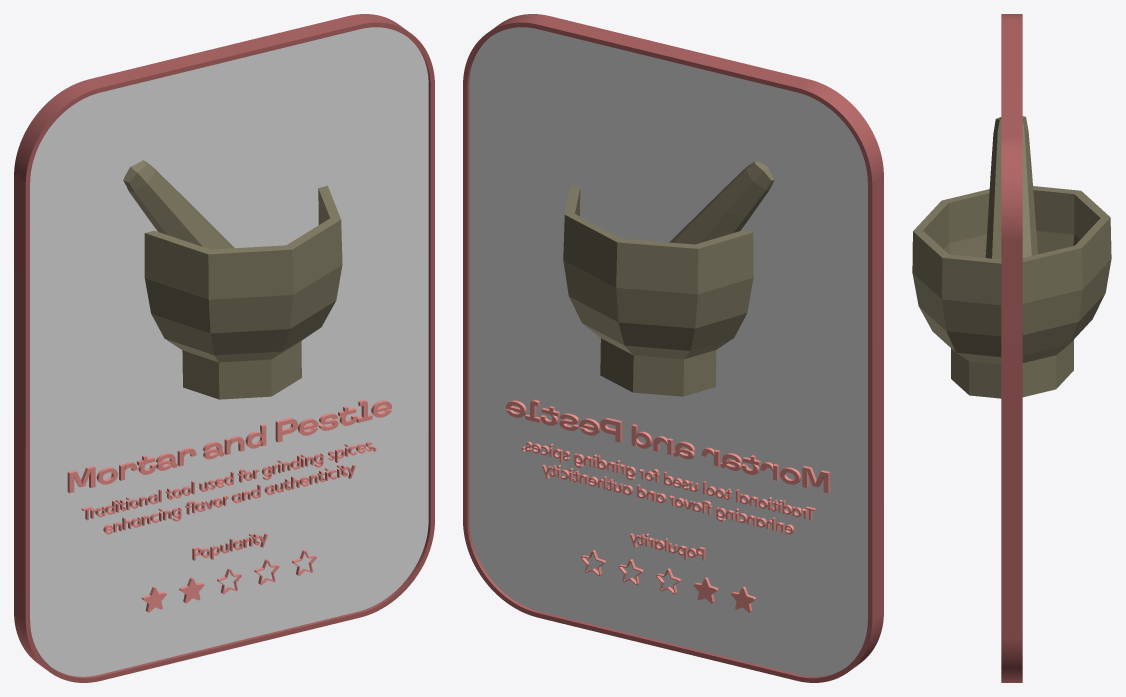
Rendered from mortor.glb.
3 renders of one model, left to right at view 1: azimuth 30°, elevation 25°; view 2: azimuth 150°, elevation 25°; view 3: azimuth 270°, elevation 25°, orthographic. The views are drawn at different scales.
Parts seen in each view (by area): view 1: Mesh_986.002, mortar and pestle, Mesh_2366.002, Mesh_2193.002, Mesh_1820.002, Mesh_2683.001; view 2: Mesh_986.002, mortar and pestle, Mesh_2366.002, Mesh_2193.002, Mesh_1820.002, Mesh_2683.001; view 3: mortar and pestle, Mesh_2366.002.
Part boxes in pixels (x1=…): Mesh_986.002: x1=30, y1=27, x2=428, y2=676; mortar and pestle: x1=123, y1=160, x2=342, y2=399; Mesh_2366.002: x1=14, y1=14, x2=434, y2=682; Mesh_2193.002: x1=81, y1=441, x2=376, y2=560; Mesh_1820.002: x1=67, y1=399, x2=392, y2=493; Mesh_2683.001: x1=141, y1=550, x2=316, y2=612; Mesh_986.002: x1=469, y1=27, x2=867, y2=676; mortar and pestle: x1=563, y1=161, x2=774, y2=396; Mesh_2366.002: x1=463, y1=14, x2=883, y2=682; Mesh_2193.002: x1=521, y1=441, x2=816, y2=560; Mesh_1820.002: x1=505, y1=399, x2=830, y2=493; Mesh_2683.001: x1=581, y1=550, x2=756, y2=612; mortar and pestle: x1=912, y1=116, x2=1111, y2=398; Mesh_2366.002: x1=1001, y1=14, x2=1022, y2=682.
Size of the model in its own units: 9.06 by 12.55 by 4.2.
